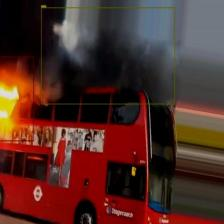fire: (0, 56, 34, 141)
smoke: (41, 7, 175, 104)
